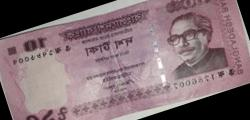10 taka: (10, 0, 237, 120)
